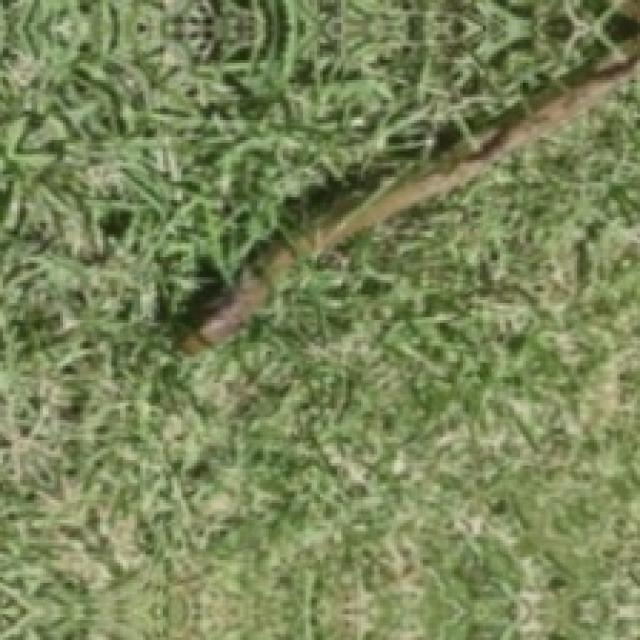reddish rat snake: (180, 34, 637, 351)
